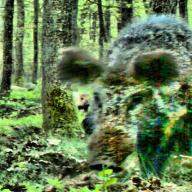boar: (50, 5, 191, 180)
